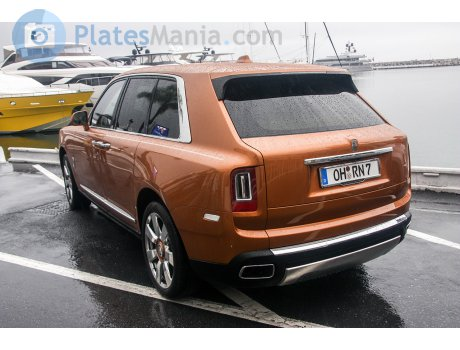License Plates: (327, 171, 371, 176)
